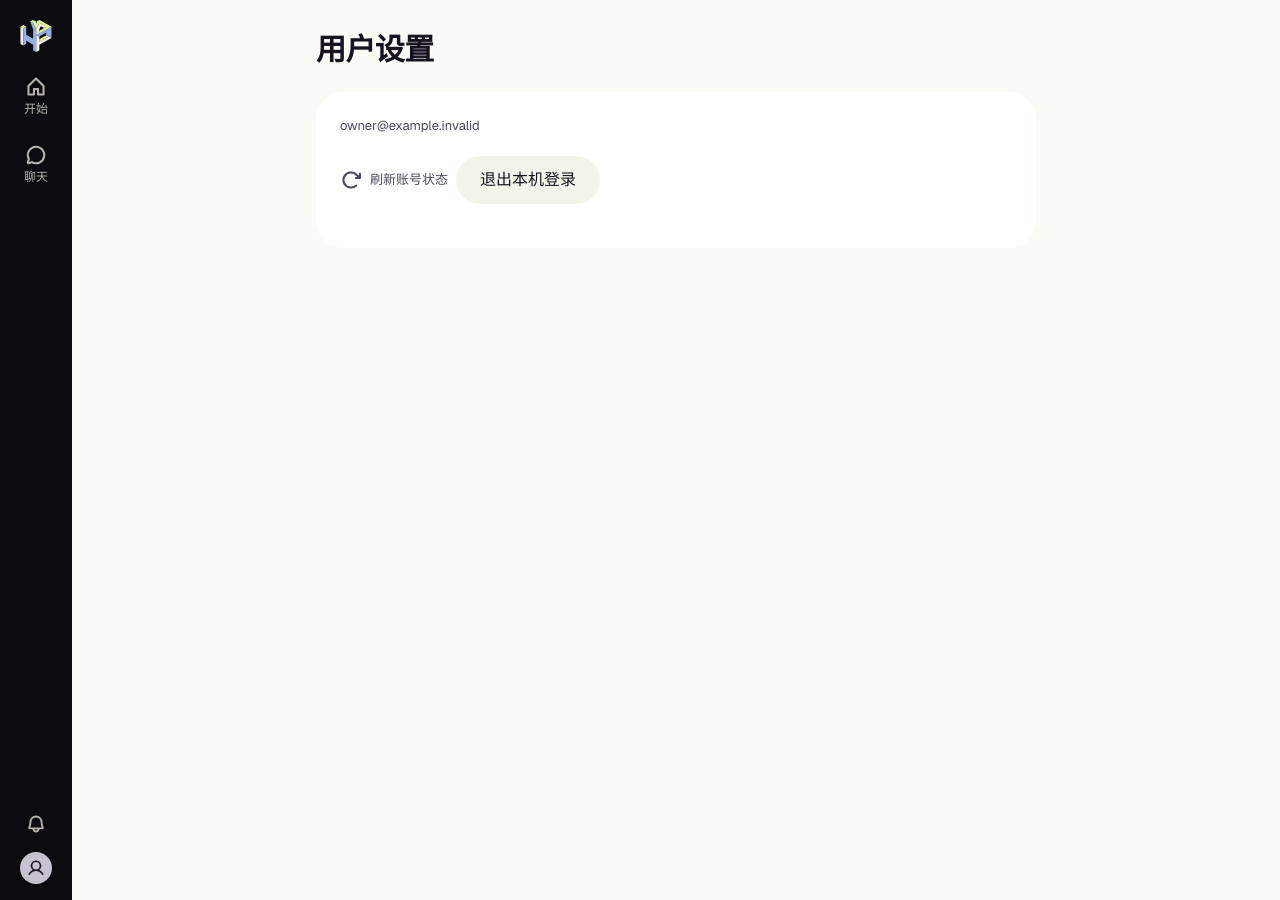
refused account calls notify on use › notifies for a refused status refresh and keeps the displayed account
The image size is (1280, 900).
Expected: the text "owner@example.invalid" is shown, [340, 117, 480, 134]
Step 1. Click the button "刷新账号状态" → (394, 180), box [340, 168, 448, 190]
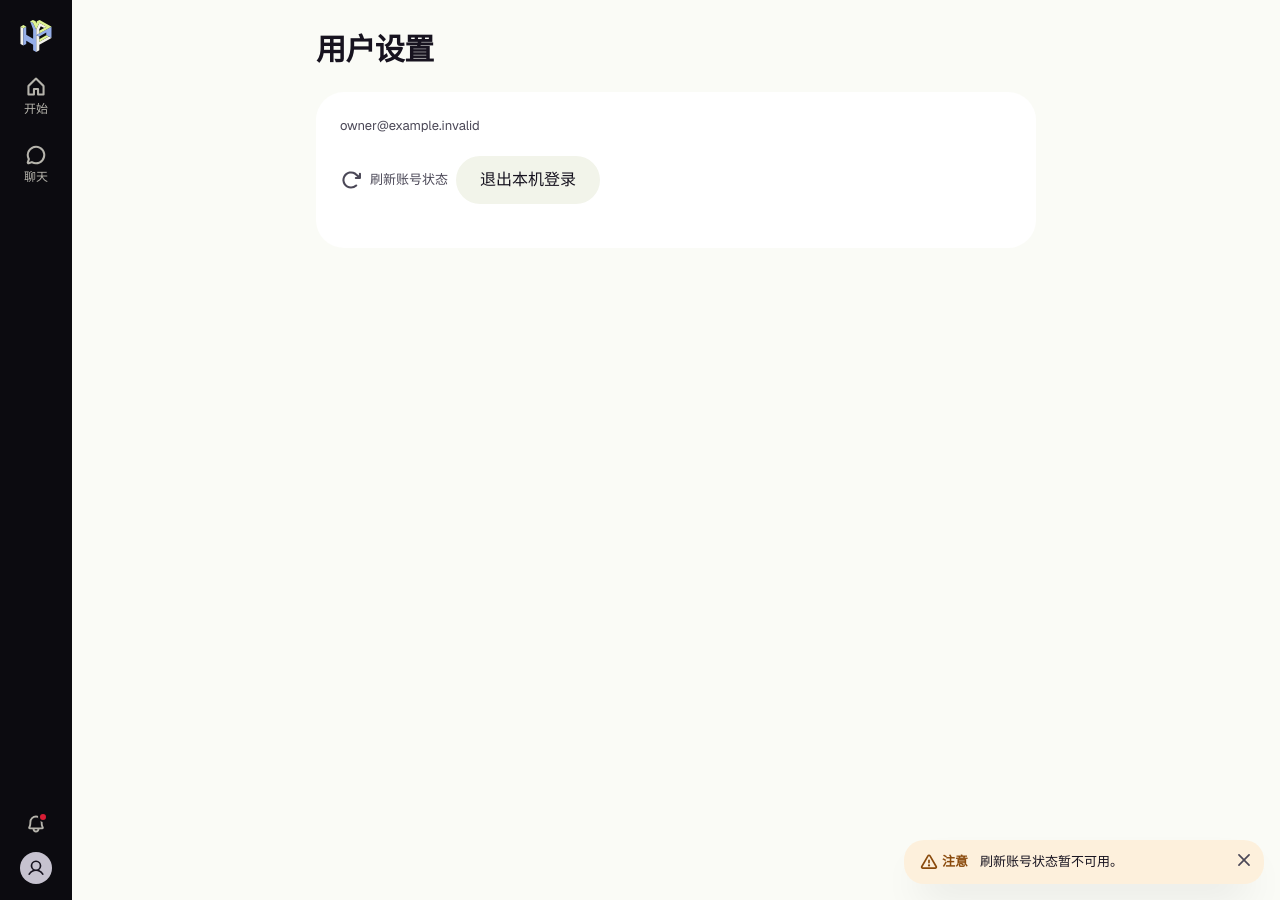
Expected: the number of elements with class "toast-warning" is 1, [904, 840, 1264, 884]
Expected: the text with class "toast-text" reads "刷新账号状态暂不可用。", [980, 853, 1123, 870]
Expected: the button named "关闭提示" is shown, [1232, 848, 1256, 872]
